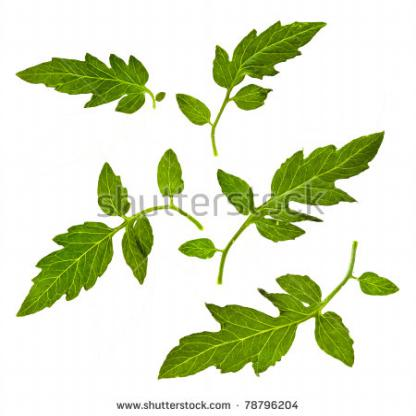tomato leaf: (154, 240, 378, 395), (18, 145, 194, 320), (183, 11, 336, 191), (216, 126, 379, 276), (8, 46, 173, 125)
